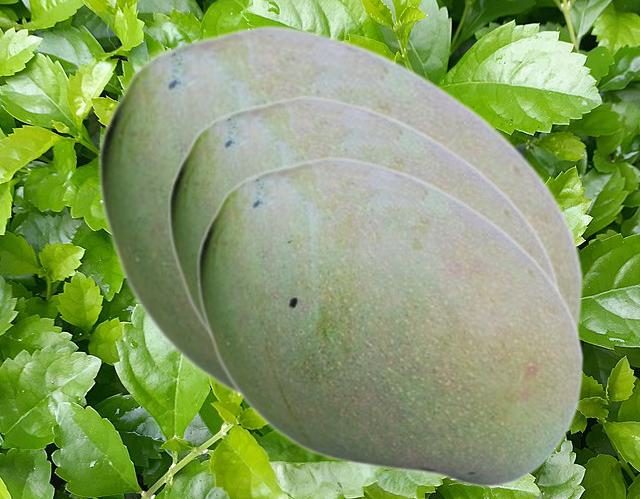green_mango: (97, 23, 583, 399), (196, 155, 583, 487), (167, 94, 560, 338)
